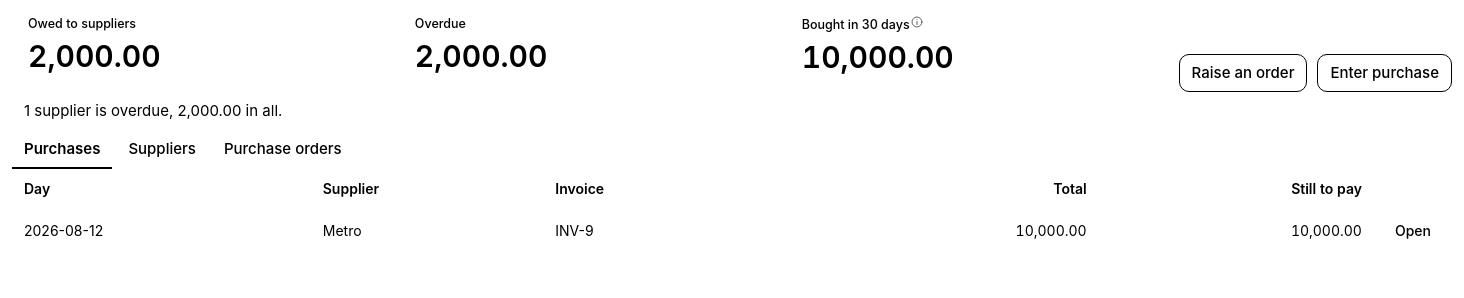
Scenario: the buying screen (P26) › shows what is owed and how late it is, in Rust words
The image size is (1464, 298).
Expected: the text "1 supplier is overdue, 2,000.00 in all." is shown, [24,101,282,120]
Click the tab "Suppliers".
click(162, 150)  # box [116,131,208,169]
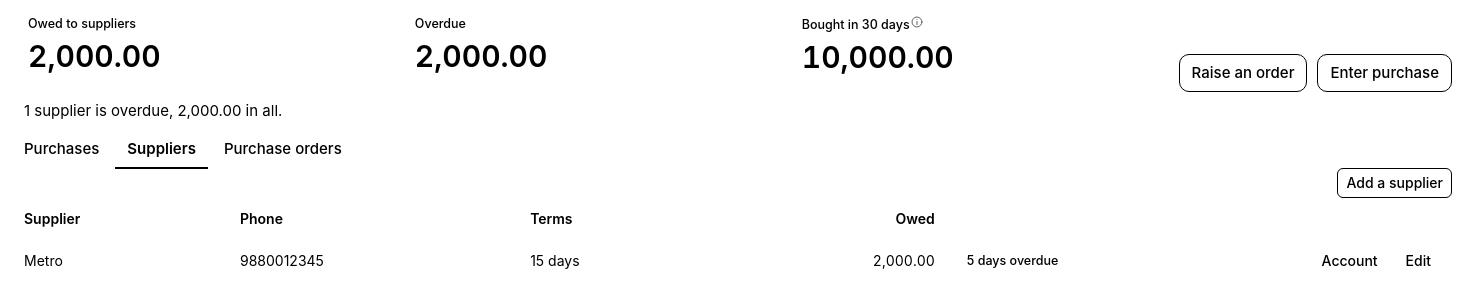
Now the text "5 days overdue" is shown, box [959,249,1066,273]
Now the text "15 days" is shown, box [518,240,716,282]
